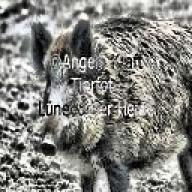boar: (28, 13, 191, 192)
